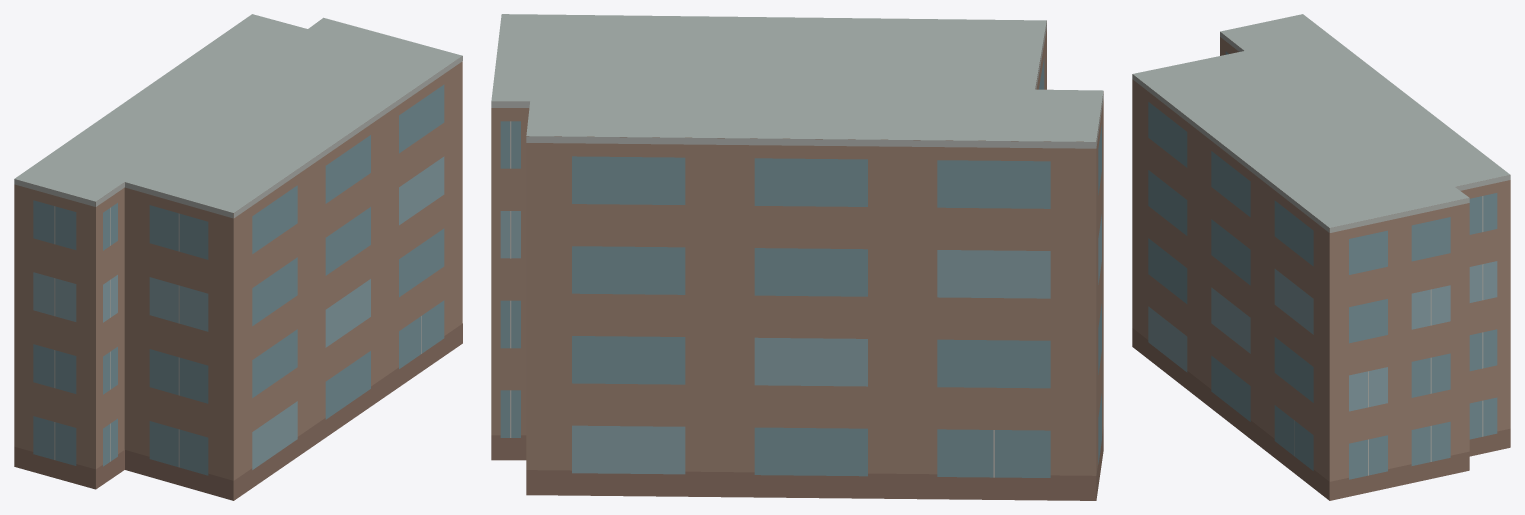
Rendered from survey-upis-32784516.glb.
The picture shows the model from 3 angles, left to right: view 1: azimuth 30°, elevation 25°; view 2: azimuth 150°, elevation 25°; view 3: azimuth 270°, elevation 25°; orthographic projection. The views are drawn at different scales.
Visible parts, largest first — view 1: survey-upis-32784516.tmp; view 2: survey-upis-32784516.tmp; view 3: survey-upis-32784516.tmp.
Boxes of the visible parts, left/top/right/bottom form: survey-upis-32784516.tmp: left=14, top=14, right=462, bottom=500; survey-upis-32784516.tmp: left=491, top=14, right=1103, bottom=500; survey-upis-32784516.tmp: left=1132, top=14, right=1510, bottom=500.
Size of the model in its own units: 21.71 by 12.9 by 16.21.
